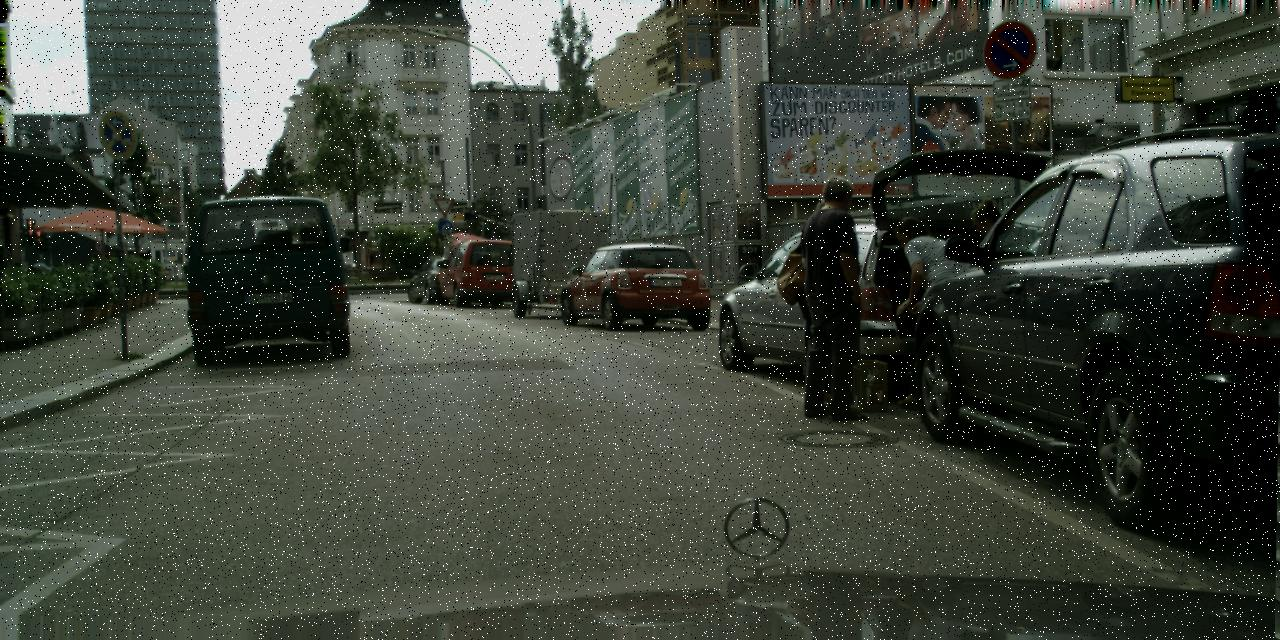ped: (784, 174, 884, 418), (954, 200, 1040, 410), (784, 198, 869, 407), (884, 216, 962, 408), (30, 258, 51, 309), (20, 263, 40, 309), (182, 260, 190, 282), (171, 265, 178, 283)
